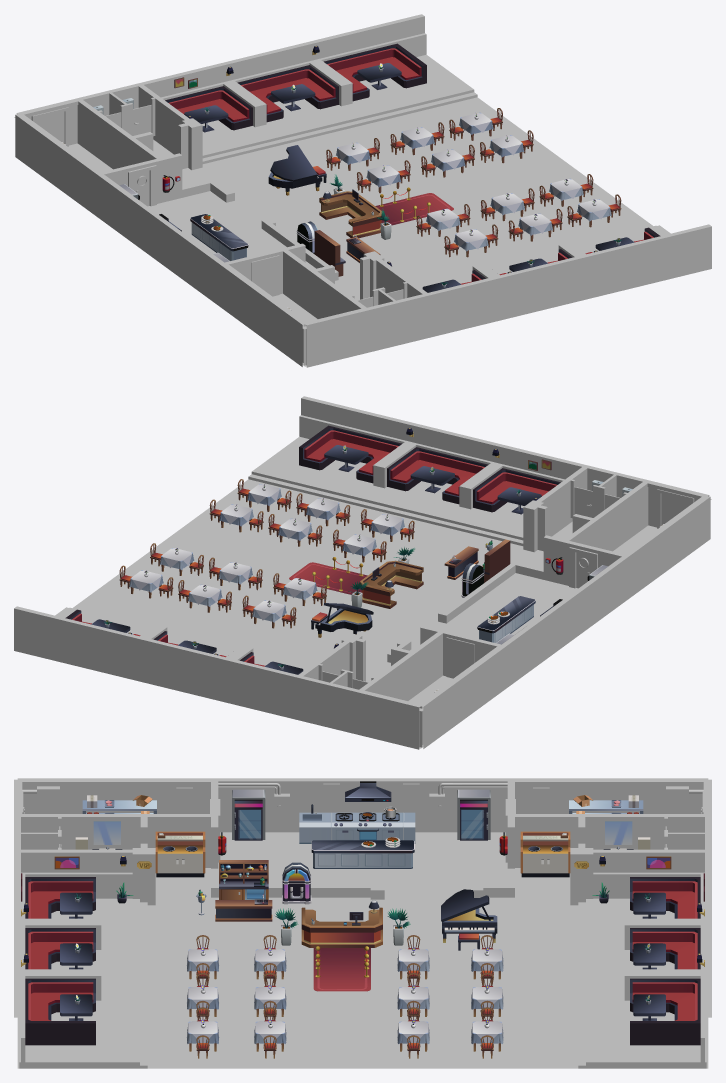
The model's file is Restaurant.fbx.
3 views of the same model, one above another, from view 1: azimuth 30°, elevation 25°; view 2: azimuth 150°, elevation 25°; view 3: azimuth 270°, elevation 25° (orthographic). The views are drawn at different scales.
Parts seen in each view (by area): view 1: Tuong (×2), pPlane1 (×2), pCube14 (×2), pCube133 (×12), pCube125, pCube123, pCube69, pCube72, pCube85, pCube13, pCube17 (×2), polySurface36 (+8 smaller); view 2: Tuong (×2), pPlane1 (×2), pCube14 (×2), pCube133 (×12), pCube125, pCube123, pCube69, pCube72, pCube17 (×2), pCube85, pCube13, pCube18 (+10 smaller); view 3: pPlane1 (×2), Tuong (×2), pCube14 (×2), pCube133 (×12), pCube125 (×2), pCube69 (×2), pCube117 (×2), pCube72 (×2), pCube123 (×2), pCube13 (×2), pCube19, pCube18 (+16 smaller).
Part boxes in pixels (x1,y1,x2,y2): Tuong (×2): [15, 14, 711, 367]; pPlane1 (×2): [68, 97, 653, 366]; pCube14 (×2): [201, 54, 670, 288]; pCube133 (×12): [336, 112, 611, 257]; pCube125: [324, 43, 426, 101]; pCube123: [237, 65, 338, 122]; pCube69: [161, 33, 426, 127]; pCube72: [165, 86, 252, 130]; pCube85: [319, 191, 382, 238]; pCube13: [202, 92, 477, 163]; pCube17 (×2): [128, 165, 279, 296]; polySurface36: [268, 145, 322, 195]; Tuong (×2): [14, 396, 710, 749]; pPlane1 (×2): [72, 479, 657, 748]; pCube14 (×2): [55, 436, 524, 670]; pCube133 (×12): [129, 484, 404, 628]; pCube125: [299, 425, 401, 483]; pCube123: [387, 447, 488, 504]; pCube69: [299, 415, 564, 509]; pCube72: [473, 468, 560, 512]; pCube17 (×2): [446, 547, 597, 678]; pCube85: [359, 560, 423, 608]; pCube13: [248, 474, 523, 545]; pCube18: [477, 596, 535, 642]; pPlane1 (×2): [17, 832, 708, 1068]; Tuong (×2): [14, 778, 711, 1017]; pCube14 (×2): [19, 898, 706, 1065]; pCube133 (×12): [186, 949, 503, 1051]; pCube125 (×2): [25, 978, 700, 1045]; pCube69 (×2): [21, 872, 704, 1062]; pCube117 (×2): [155, 831, 570, 877]; pCube72 (×2): [25, 877, 700, 918]; pCube123 (×2): [25, 928, 700, 969]; pCube13 (×2): [19, 902, 706, 1068]; pCube19: [299, 812, 415, 843]; pCube18: [311, 840, 414, 868].
Bounding box in the file's own units: 3864 × 384 × 4758.
